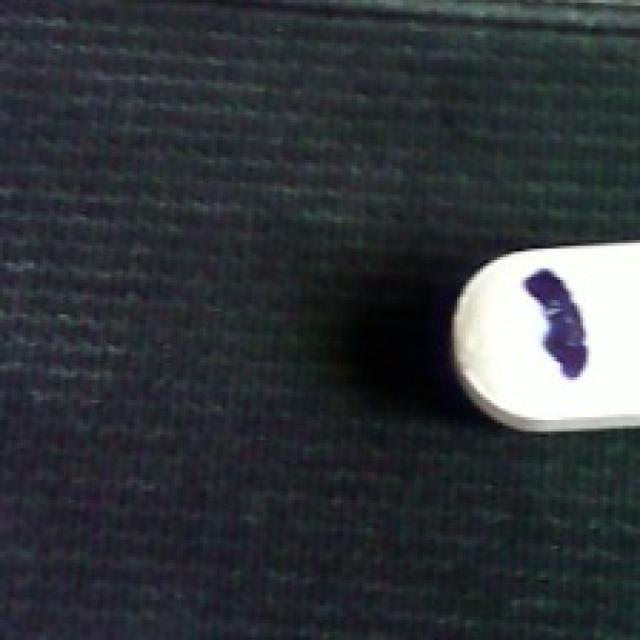defected: (443, 237, 637, 437)
